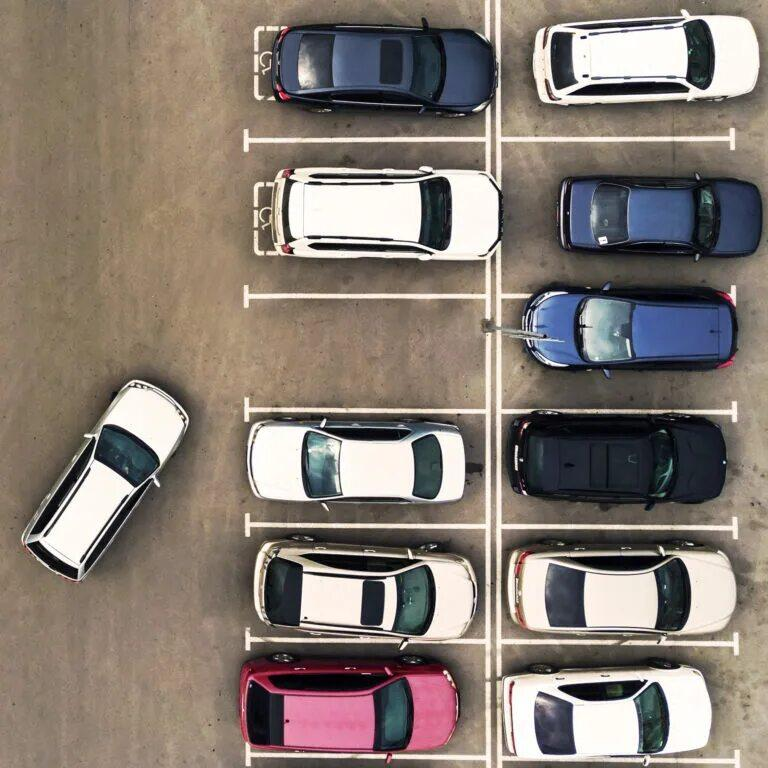occupied: (246, 139, 488, 297), (499, 139, 733, 297), (499, 642, 738, 761), (248, 640, 488, 758), (248, 525, 488, 642), (499, 411, 735, 529), (248, 410, 488, 526), (499, 527, 736, 644), (499, 296, 734, 413)
vacant: (246, 297, 489, 411)
